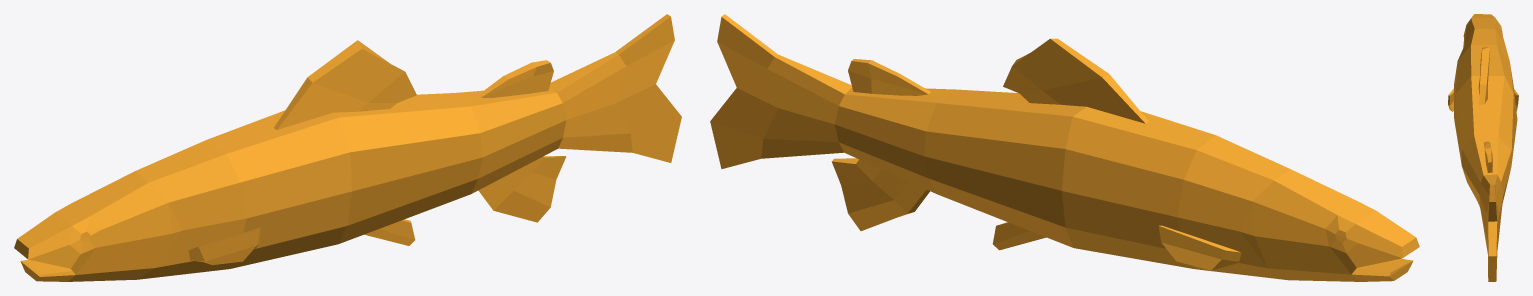
File: SM_Fish_B_Fantasy.fbx
The picture shows the model from 3 angles, left to right: view 1: azimuth 30°, elevation 25°; view 2: azimuth 150°, elevation 25°; view 3: azimuth 270°, elevation 25°; orthographic projection. The views are drawn at different scales.
Parts seen in each view (by area): view 1: fish-b-fantasy; view 2: fish-b-fantasy; view 3: fish-b-fantasy.
Part boxes in pixels (bbox=[...]): fish-b-fantasy: bbox=[14, 14, 681, 281]; fish-b-fantasy: bbox=[710, 14, 1419, 281]; fish-b-fantasy: bbox=[1448, 14, 1518, 281].
Bounding box in the file's own units: 0.7148 × 0.2333 × 0.0985.
